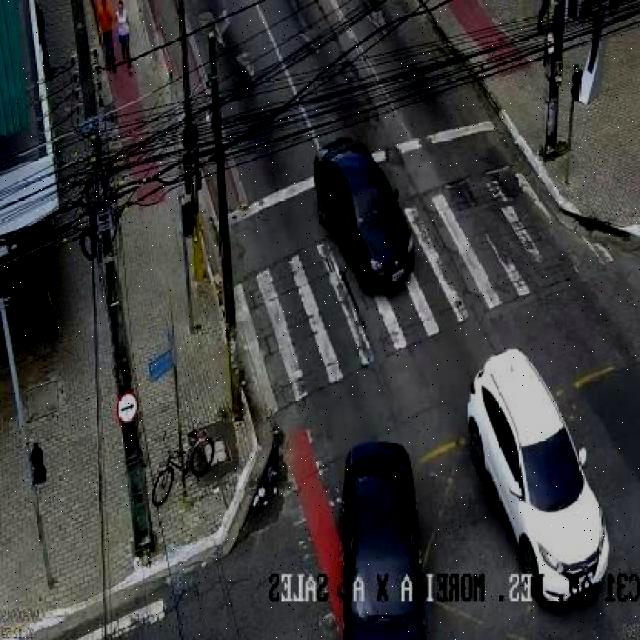Car: (469, 346, 613, 606), (315, 138, 420, 293), (340, 440, 423, 636)
